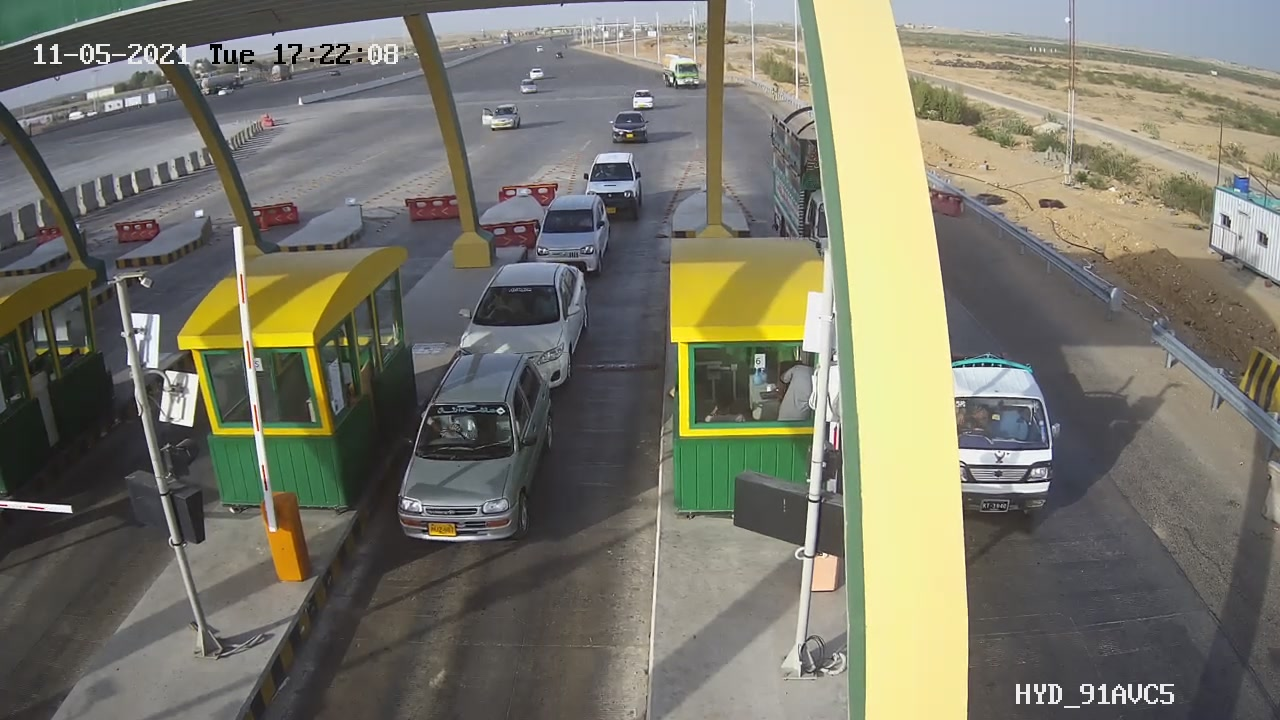F1: (383, 339, 574, 564), (527, 181, 622, 290)
